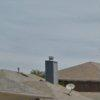Chimney: (39, 48, 63, 86)
